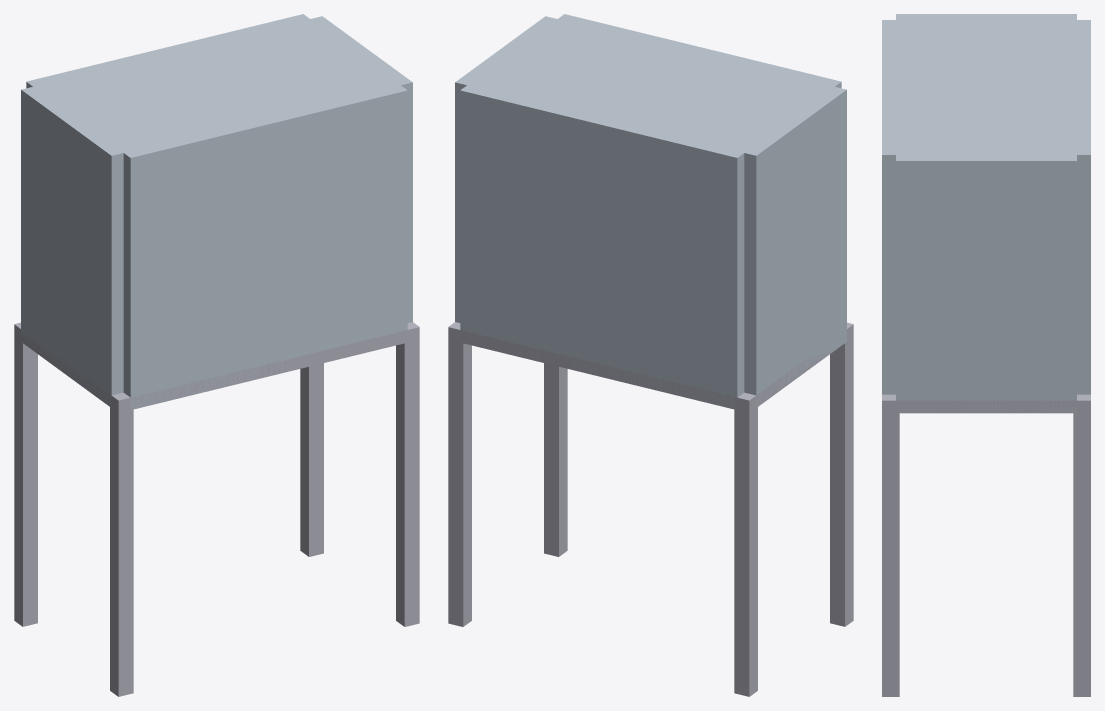
Rendered from cabinet_A_standing_flat.obj.
The picture shows the model from 3 angles, left to right: view 1: azimuth 30°, elevation 25°; view 2: azimuth 150°, elevation 25°; view 3: azimuth 270°, elevation 25°; orthographic projection.
Parts seen in each view (by area): view 1: GlassFront, GlassLeft, Legs, TopDoor, LowerFrame, GlassRight, GlassBack; view 2: GlassBack, GlassLeft, Legs, TopDoor, LowerFrame, GlassRight, GlassFront; view 3: GlassRight, TopDoor, Legs, GlassFront, GlassBack, LowerFrame, GlassLeft.
Boxes of the visible parts, <box> form: GlassFront: <box>123,85,407,409</box>; GlassLeft: <box>21,87,123,407</box>; Legs: <box>14,337,419,696</box>; TopDoor: <box>33,19,400,152</box>; LowerFrame: <box>14,322,419,412</box>; GlassRight: <box>310,16,412,322</box>; GlassBack: <box>26,14,309,88</box>; GlassBack: <box>460,85,744,409</box>; GlassLeft: <box>744,87,846,406</box>; Legs: <box>448,337,853,696</box>; TopDoor: <box>467,19,834,152</box>; LowerFrame: <box>448,322,853,412</box>; GlassRight: <box>455,16,557,322</box>; GlassFront: <box>558,14,841,88</box>; GlassRight: <box>896,155,1076,413</box>; TopDoor: <box>896,20,1076,154</box>; Legs: <box>882,413,1090,696</box>; GlassFront: <box>882,20,895,394</box>; GlassBack: <box>1077,20,1090,394</box>; LowerFrame: <box>882,394,1090,413</box>; GlassLeft: <box>896,14,1076,19</box>.
Bounding box in the file's own units: 1 × 1.7 × 0.6.
